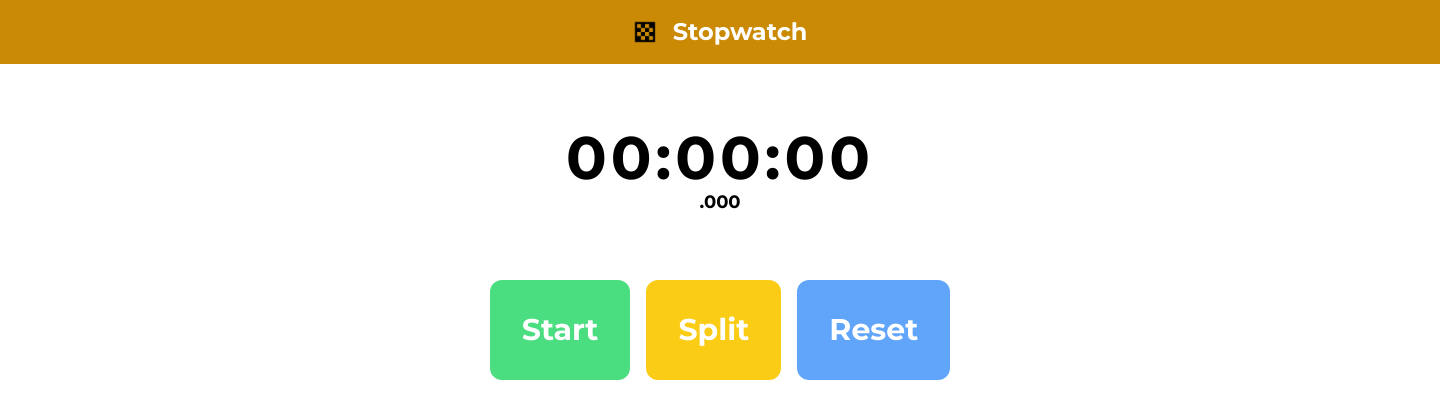
Test case: <Stopwatch /> › should render time and buttons
The image size is (1440, 397).
Expected: the button "Reset" is shown, [797, 280, 950, 380]
Expected: the button "Split" is shown, [646, 280, 781, 380]
Click the button "Start" at point(560, 330), box [490, 280, 630, 380]
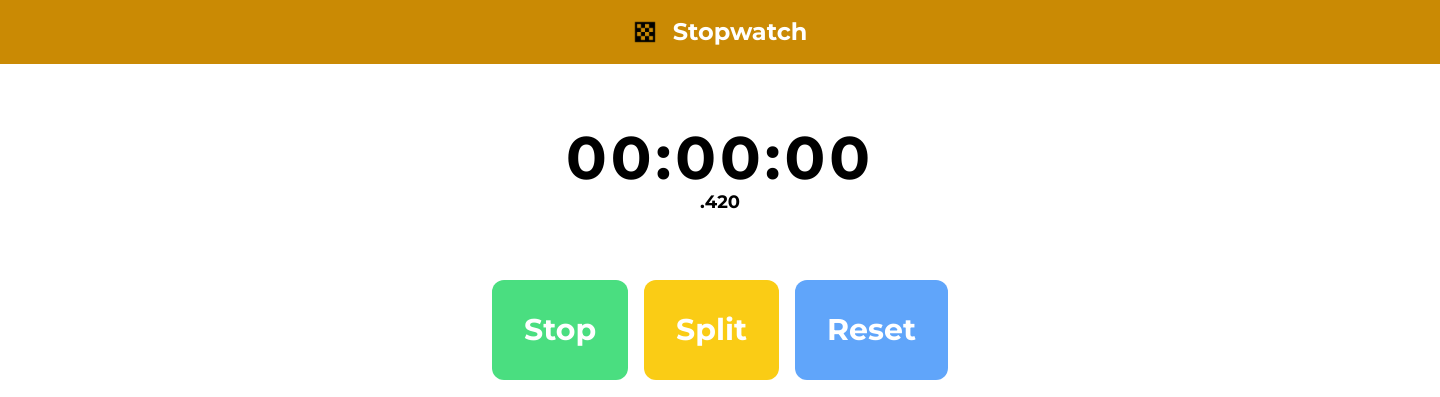
Now the button "Stop" is shown, box [492, 280, 628, 380]
